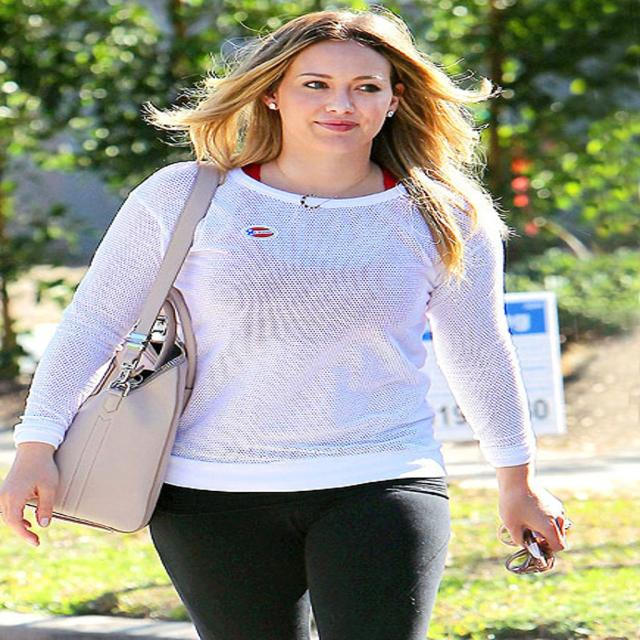Face: (268, 42, 405, 160)
